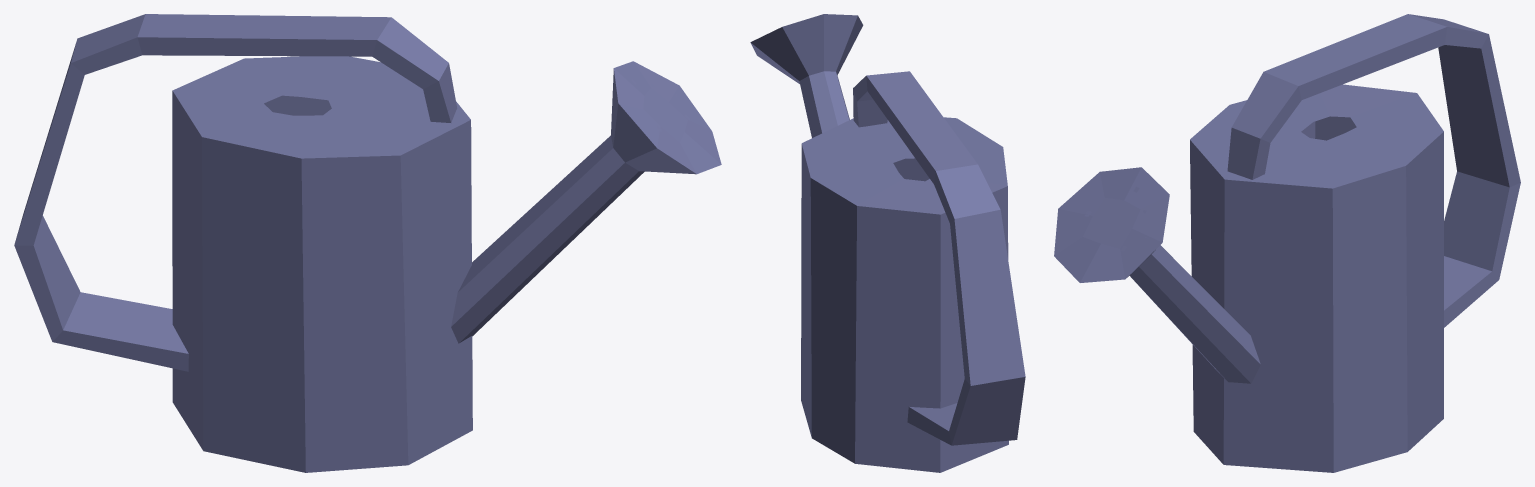
The model's file is Backyard_Watering_Can.fbx.
3 renders of one model, left to right at view 1: azimuth 30°, elevation 25°; view 2: azimuth 150°, elevation 25°; view 3: azimuth 270°, elevation 25°, orthographic. The views are drawn at different scales.
Parts seen in each view (by area): view 1: Backyard_Watering_Can; view 2: Backyard_Watering_Can; view 3: Backyard_Watering_Can.
Boxes of the visible parts, x1,y1,x2,y2 form: Backyard_Watering_Can: [14, 14, 721, 472]; Backyard_Watering_Can: [750, 14, 1025, 472]; Backyard_Watering_Can: [1054, 14, 1520, 472].
Bounding box in the file's own units: 58.28 × 43.19 × 50.26.
